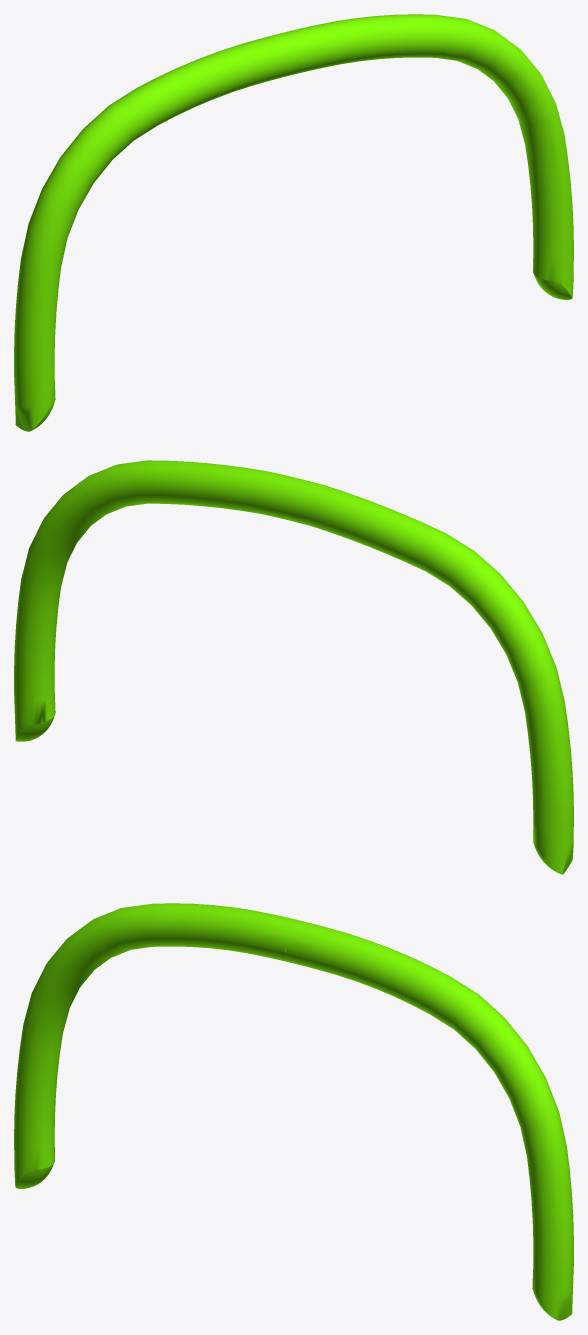
The model's file is chair_027_11.obj.
3 views of the same model, one above another, from view 1: azimuth 30°, elevation 25°; view 2: azimuth 150°, elevation 25°; view 3: azimuth 330°, elevation 25° (orthographic).
Size of the model in its own units: 268 by 152 by 21.07.
